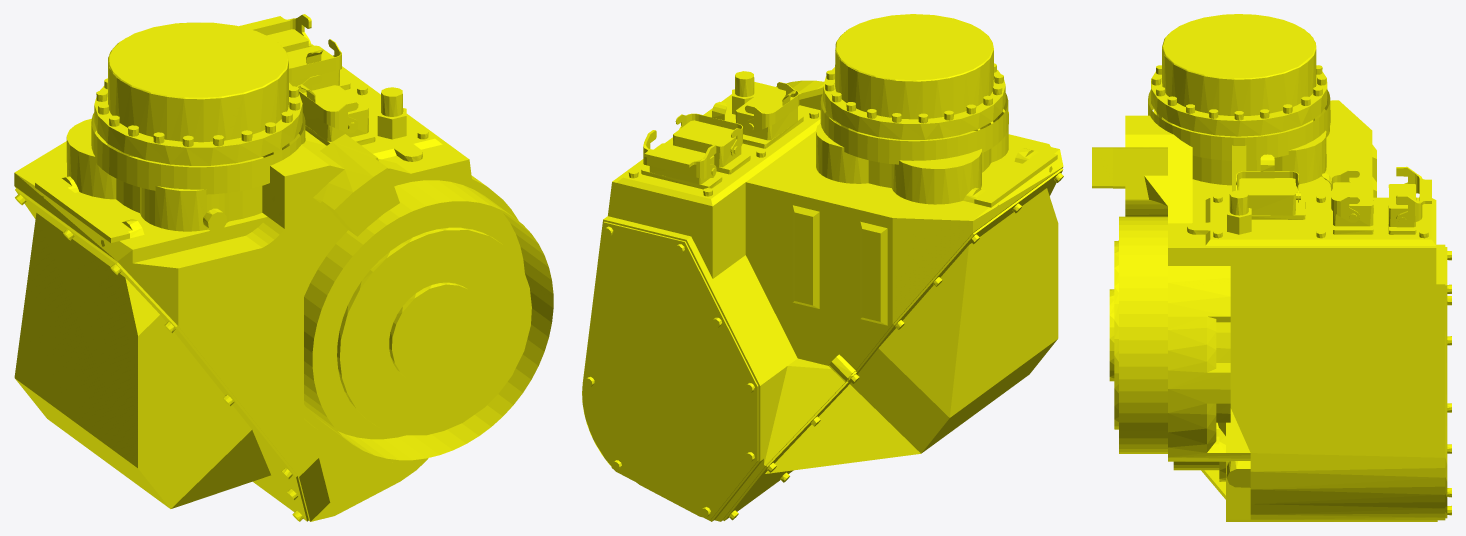
3 views of the same model, side by side, from view 1: azimuth 30°, elevation 25°; view 2: azimuth 150°, elevation 25°; view 3: azimuth 270°, elevation 25° (orthographic). The views are drawn at different scales.
Visible parts, largest first — view 1: node; view 2: node; view 3: node.
Part boxes in pixels (bbox=[...]): node: bbox=[14, 14, 553, 521]; node: bbox=[582, 14, 1063, 521]; node: bbox=[1092, 14, 1451, 521].
Bounding box in the file's own units: 436 × 477 × 379.
